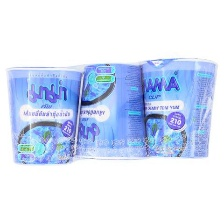paper_cup: (68, 59, 154, 164), (138, 55, 221, 163), (2, 63, 83, 166)
